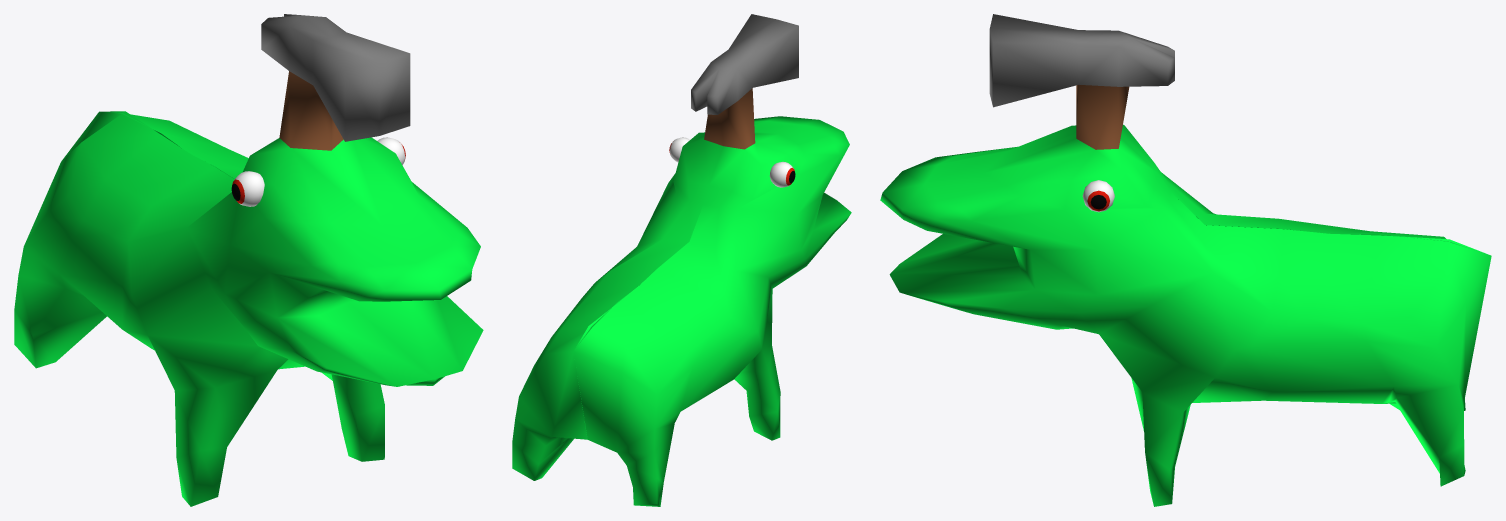
File: hammer_head.fbx
3 views of the same model, side by side, from view 1: azimuth 30°, elevation 25°; view 2: azimuth 150°, elevation 25°; view 3: azimuth 270°, elevation 25° (orthographic). The views are drawn at different scales.
Parts seen in each view (by area): view 1: Cube, eye; view 2: Cube, eye; view 3: Cube, eye.
Boxes of the visible parts, box(x1,y1,x2,y2) form: Cube: box(14, 14, 483, 506); eye: box(231, 137, 405, 206); Cube: box(512, 14, 851, 506); eye: box(669, 137, 795, 187); Cube: box(880, 14, 1491, 506); eye: box(1082, 180, 1114, 212).
Bounding box in the file's own units: 254 × 533 × 677.
